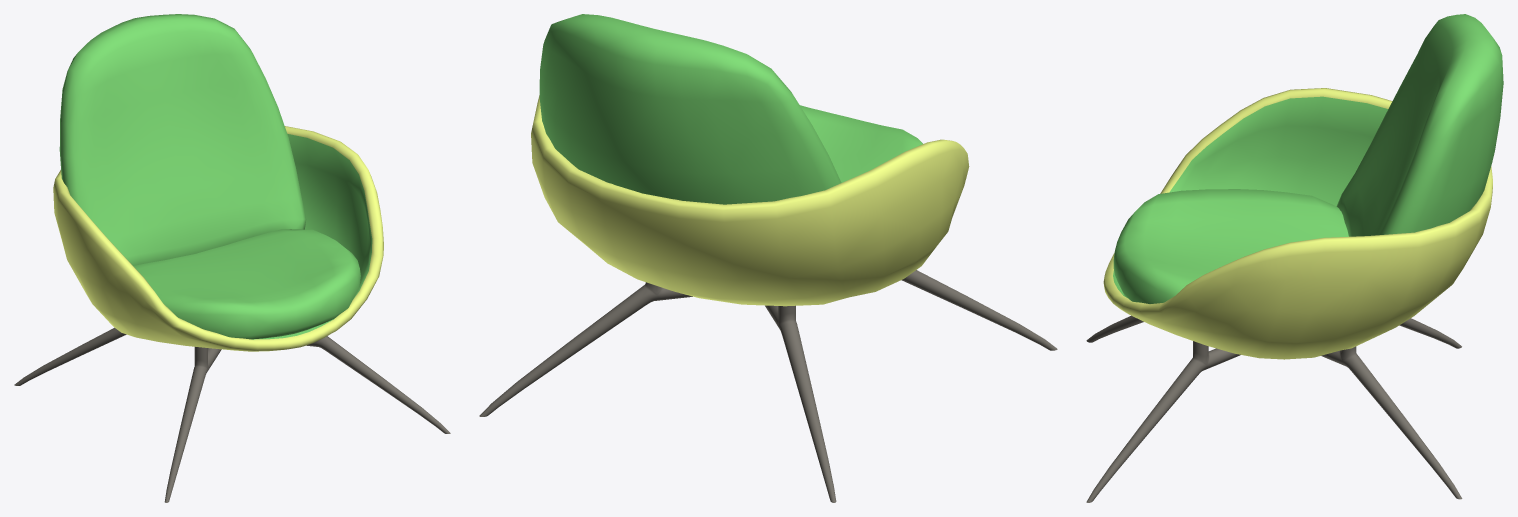
File: Chair6.fbx
The picture shows the model from 3 angles, left to right: view 1: azimuth 30°, elevation 25°; view 2: azimuth 150°, elevation 25°; view 3: azimuth 270°, elevation 25°; orthographic projection. The views are drawn at different scales.
Visible parts, largest first — view 1: Poltrona_moon.med; view 2: Poltrona_moon.med; view 3: Poltrona_moon.med.
Part boxes in pixels (bbox=[...]): Poltrona_moon.med: bbox=[14, 14, 450, 502]; Poltrona_moon.med: bbox=[479, 14, 1057, 502]; Poltrona_moon.med: bbox=[1086, 14, 1503, 502].
Bounding box in the file's own units: 97.85 × 107 × 106.
